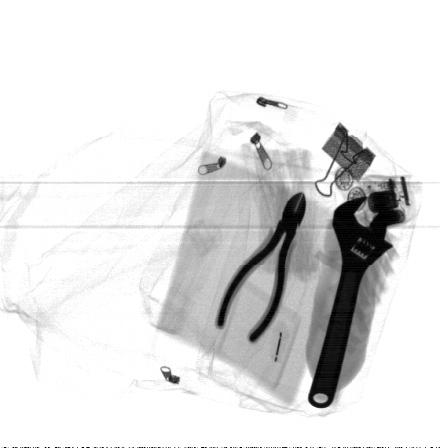Pliers: (213, 191, 306, 346)
Wrench: (308, 198, 394, 409)
